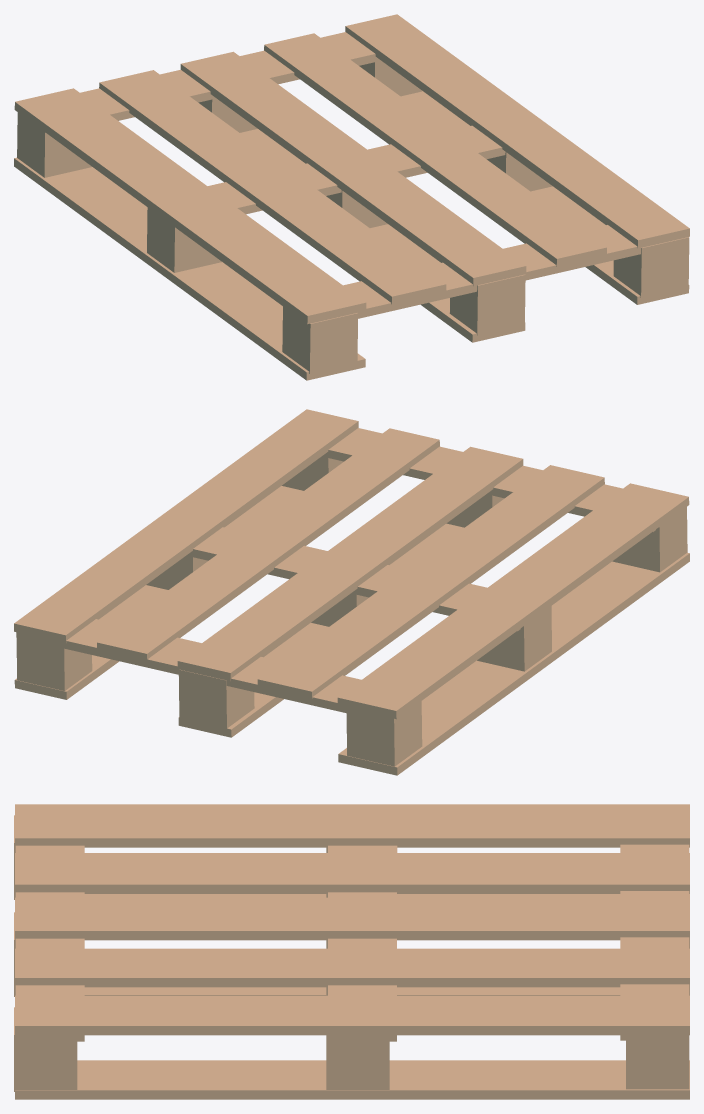
Rendered from Pallet.fbx.
3 views of the same model, one above another, from view 1: azimuth 30°, elevation 25°; view 2: azimuth 150°, elevation 25°; view 3: azimuth 270°, elevation 25° (orthographic). The views are drawn at different scales.
Parts seen in each view (by area): view 1: Cube.016, Cube.015, Cube.014, Cube.003, Cube.013, Cube.031, Cube.018, Cube.021, Cube.017, Cube.029, Cube.025, Cube.022 (+8 smaller); view 2: Cube.016, Cube.015, Cube.014, Cube.003, Cube.013, Cube.031, Cube.017, Cube.029, Cube.020, Cube.018, Cube.025, Cube.024 (+8 smaller); view 3: Cube.016, Cube.015, Cube.014, Cube.003, Cube.013, Cube.029, Cube.030, Cube.022, Cube.027, Cube.017, Cube.031, Cube.019 (+2 smaller).
Part boxes in pixels (x1,y1,x2,y2): Cube.016: [14, 88, 366, 324]; Cube.015: [99, 70, 446, 304]; Cube.014: [180, 51, 526, 286]; Cube.003: [345, 14, 689, 248]; Cube.013: [264, 33, 606, 266]; Cube.031: [14, 157, 365, 380]; Cube.018: [343, 225, 640, 318]; Cube.021: [282, 306, 358, 373]; Cube.017: [80, 32, 380, 120]; Cube.029: [401, 91, 689, 304]; Cube.025: [208, 125, 505, 214]; Cube.022: [613, 237, 689, 298]; Cube.016: [337, 483, 689, 719]; Cube.015: [257, 465, 604, 699]; Cube.014: [177, 446, 523, 681]; Cube.003: [14, 409, 358, 643]; Cube.013: [97, 428, 439, 661]; Cube.031: [338, 552, 689, 775]; Cube.017: [16, 619, 390, 723]; Cube.029: [14, 486, 303, 699]; Cube.020: [346, 701, 422, 766]; Cube.018: [322, 428, 655, 532]; Cube.025: [186, 527, 520, 631]; Cube.024: [178, 669, 254, 730]; Cube.016: [15, 804, 689, 847]; Cube.015: [15, 853, 689, 893]; Cube.014: [15, 900, 689, 940]; Cube.003: [15, 996, 689, 1035]; Cube.013: [15, 948, 689, 987]; Cube.029: [15, 1060, 689, 1099]; Cube.030: [15, 987, 689, 995]; Cube.022: [14, 1007, 77, 1091]; Cube.027: [326, 1035, 389, 1089]; Cube.017: [620, 844, 689, 1040]; Cube.031: [15, 894, 689, 900]; Cube.019: [626, 1040, 689, 1089].
Size of the model in its own units: 981 by 741 by 130.
